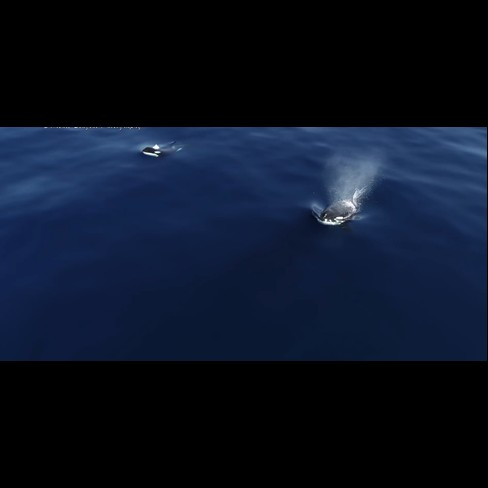orca: (307, 169, 382, 235), (138, 138, 183, 162)
